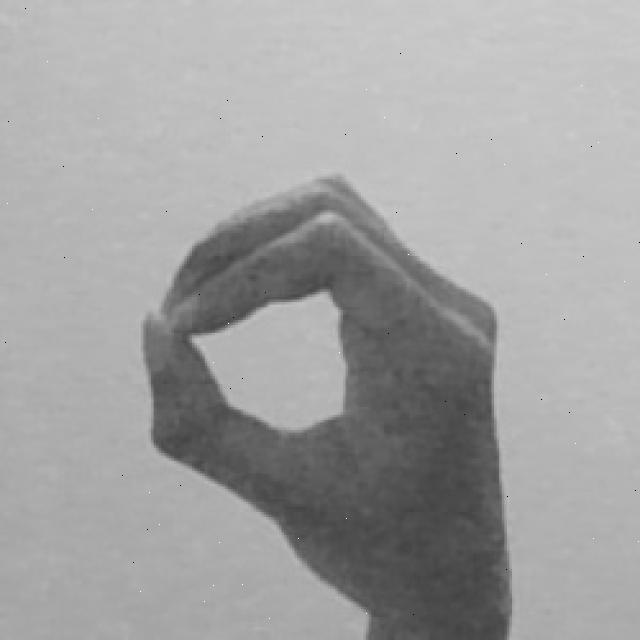O: (136, 169, 525, 640)
